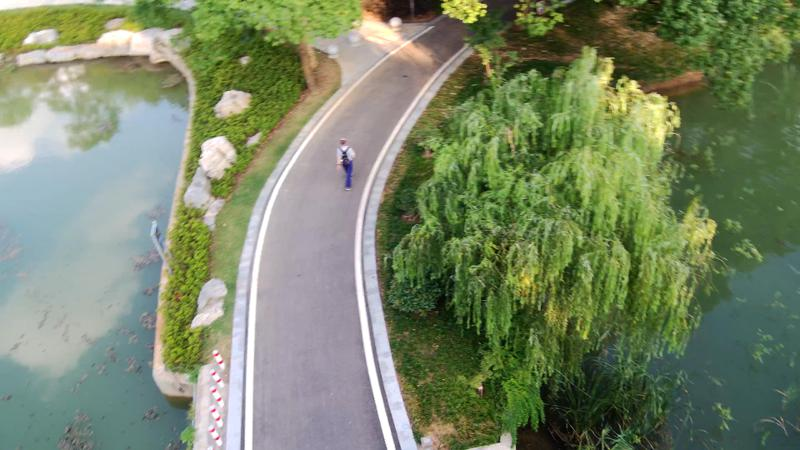passerby: (334, 135, 358, 192)
